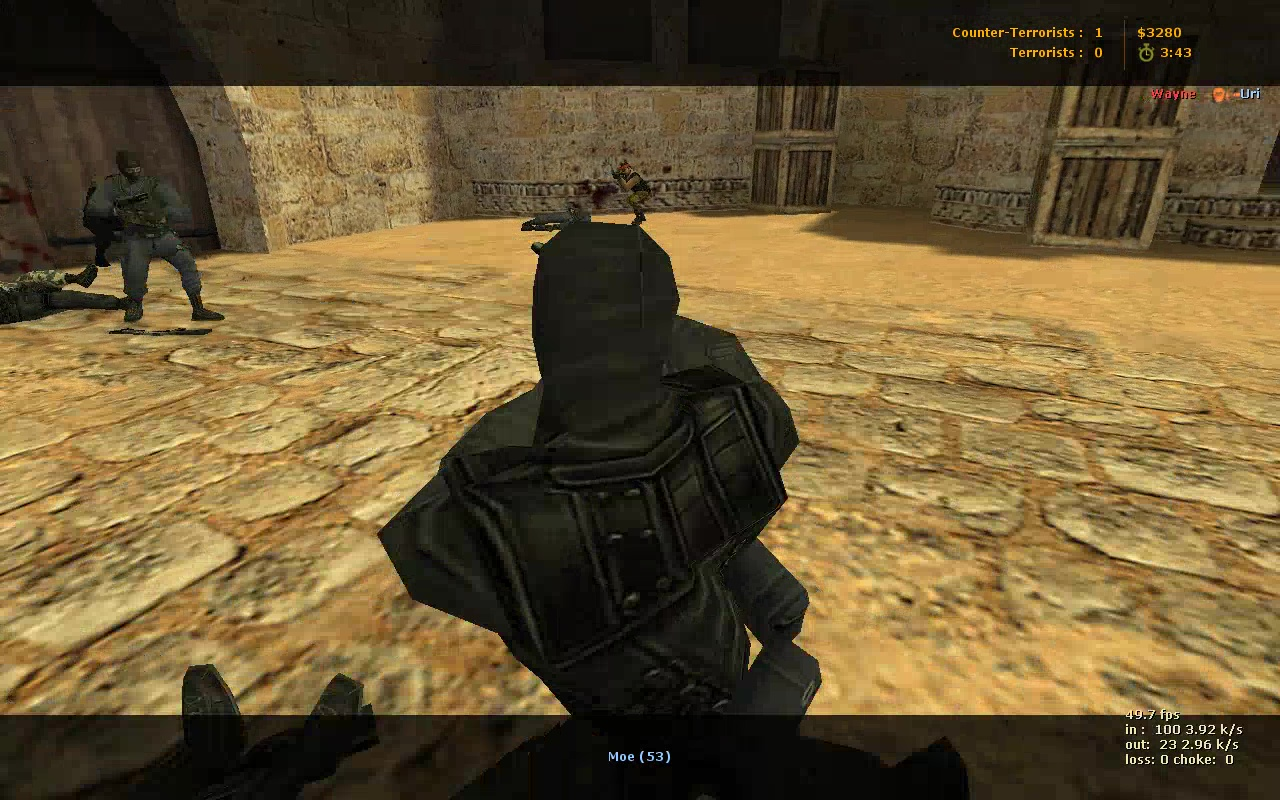ct: (380, 221, 972, 800), (86, 151, 227, 327)
dead: (1, 266, 121, 330), (522, 211, 591, 233)
terr1: (614, 163, 653, 225)
